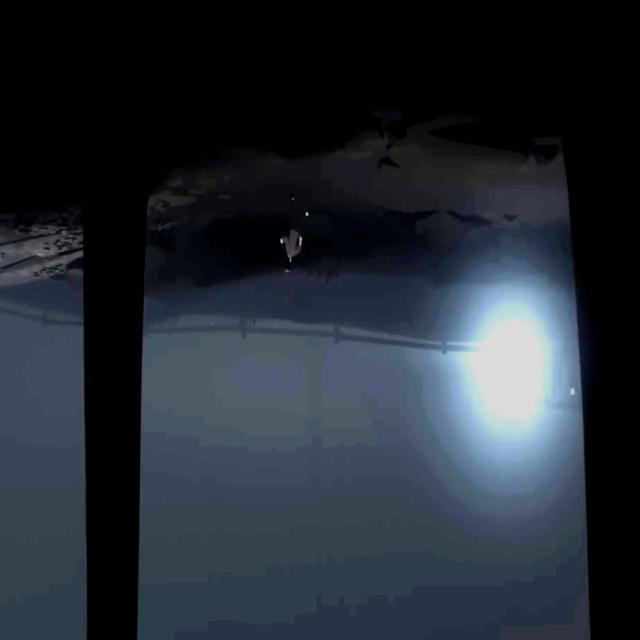boy: (280, 192, 310, 270)
